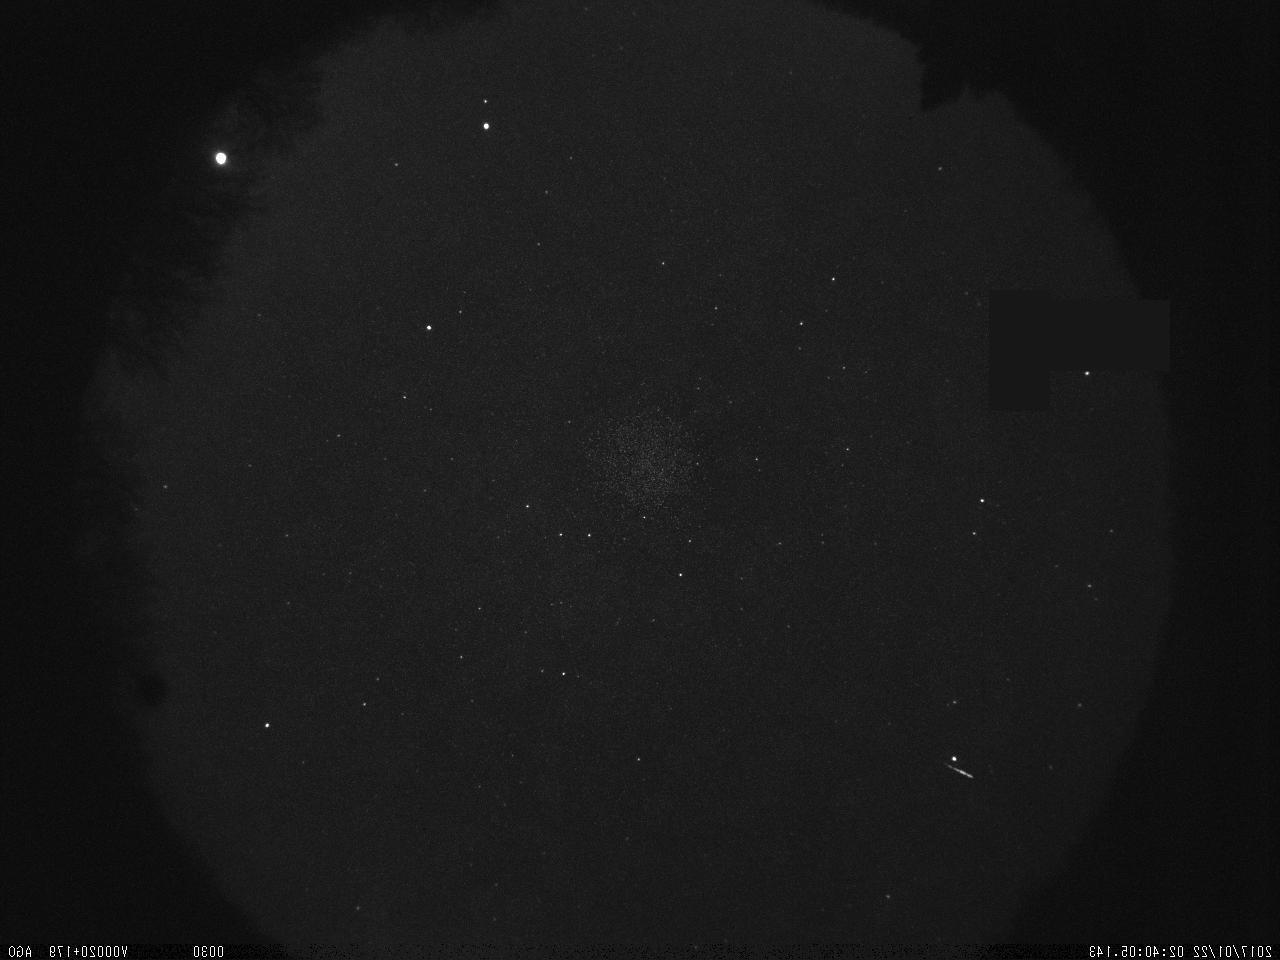meteor: (916, 758, 998, 789)
